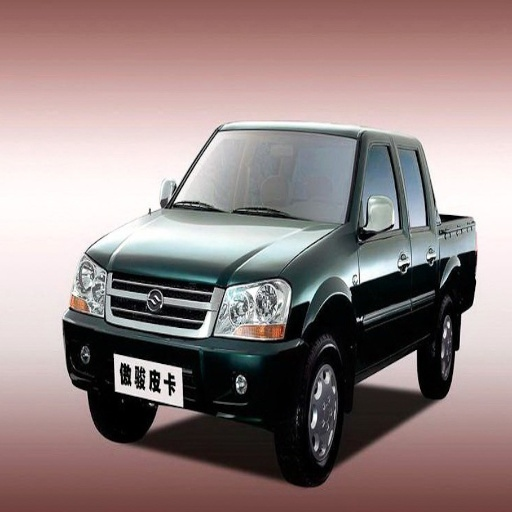back_glass: (393, 140, 439, 332)
back_right_light: (66, 269, 310, 429)
front_bumper: (166, 130, 357, 223)
front_glass: (361, 139, 412, 361)
front_left_door: (216, 277, 292, 340)
front_right_door: (71, 255, 106, 314)
front_right_light: (88, 208, 332, 289)
tailgate: (446, 218, 477, 268)
trunk: (277, 335, 348, 484), (418, 297, 457, 397), (90, 393, 156, 442)
